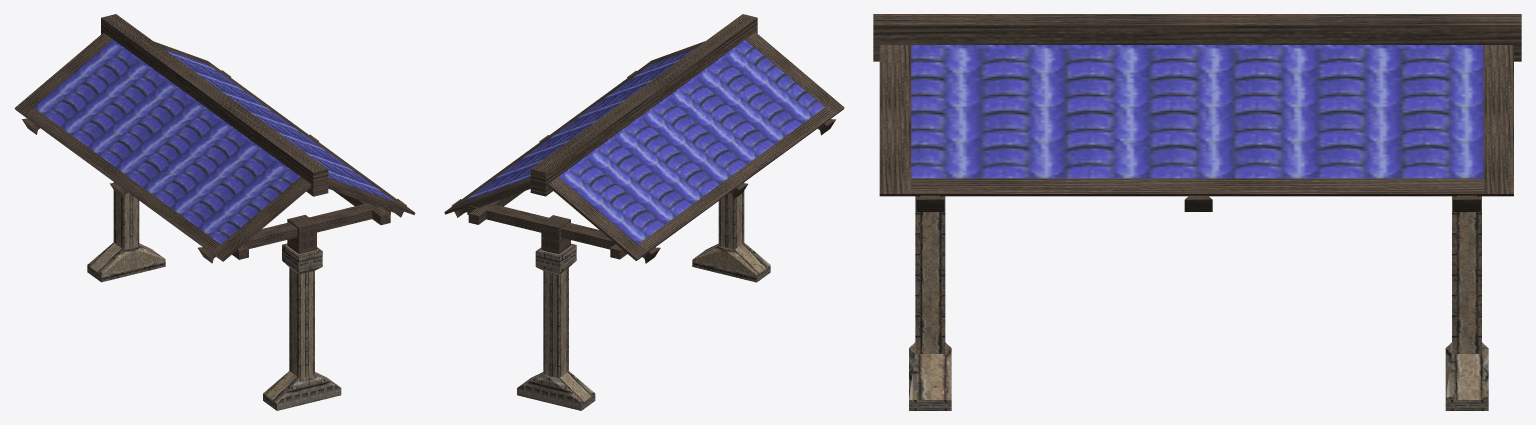
File: coberturaentrada-b.fbx
3 renders of one model, left to right at view 1: azimuth 30°, elevation 25°; view 2: azimuth 150°, elevation 25°; view 3: azimuth 270°, elevation 25°, orthographic. The views are drawn at different scales.
Parts seen in each view (by area): view 1: Cube; view 2: Cube; view 3: Cube.
Boxes of the visible parts, box(x1,y1,x2,y2) form: Cube: box(14, 14, 415, 410); Cube: box(444, 14, 844, 410); Cube: box(873, 14, 1521, 410).
Size of the model in its own units: 3.07 by 3.52 by 5.64.
